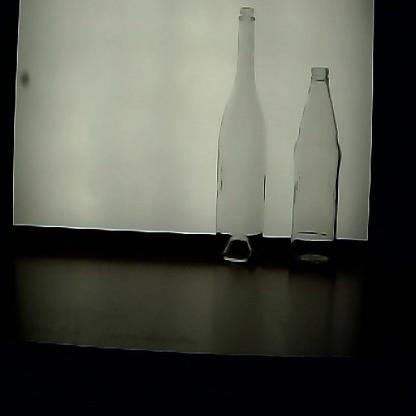Can: (213, 9, 269, 280), (292, 63, 347, 279)
